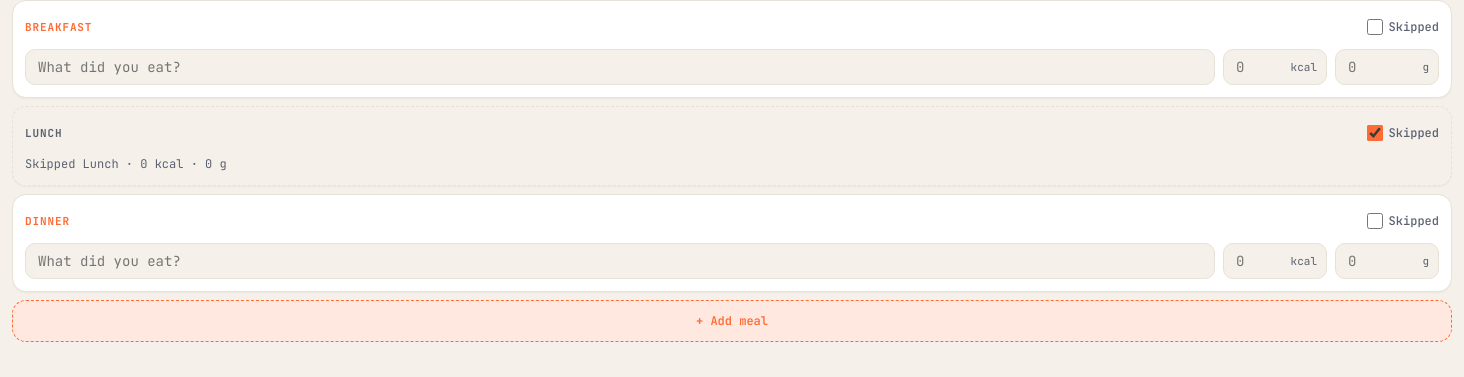
Test: MealCards — skipping a meal › unticking Skipped removes the skipped entry
This screenshot has width=1464, height=377.
Click the 2nd checkbox labelled "Skipped": point(1375, 133) [1367,125,1383,141]
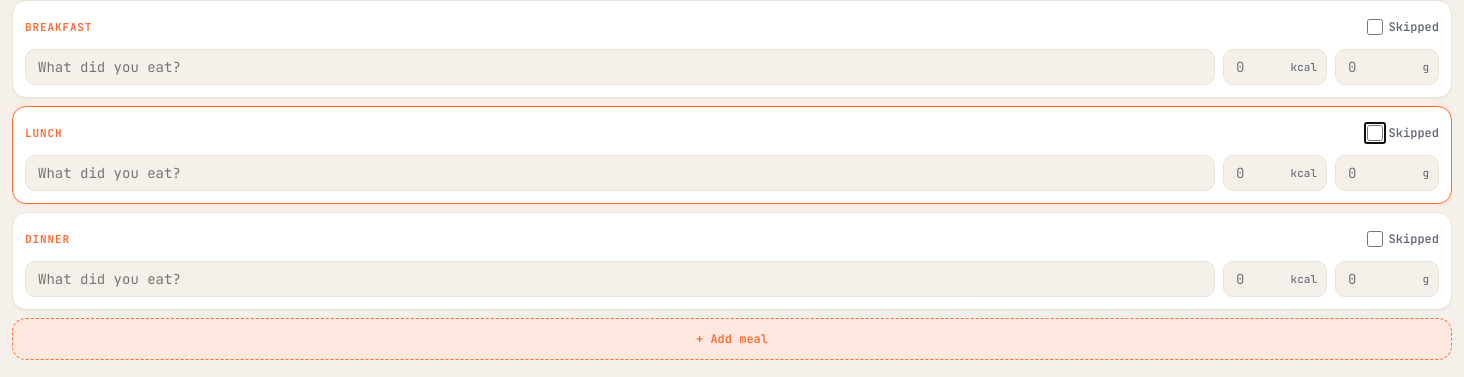
Expected: the number field named "calories" is shown, [1223,155,1327,191]
